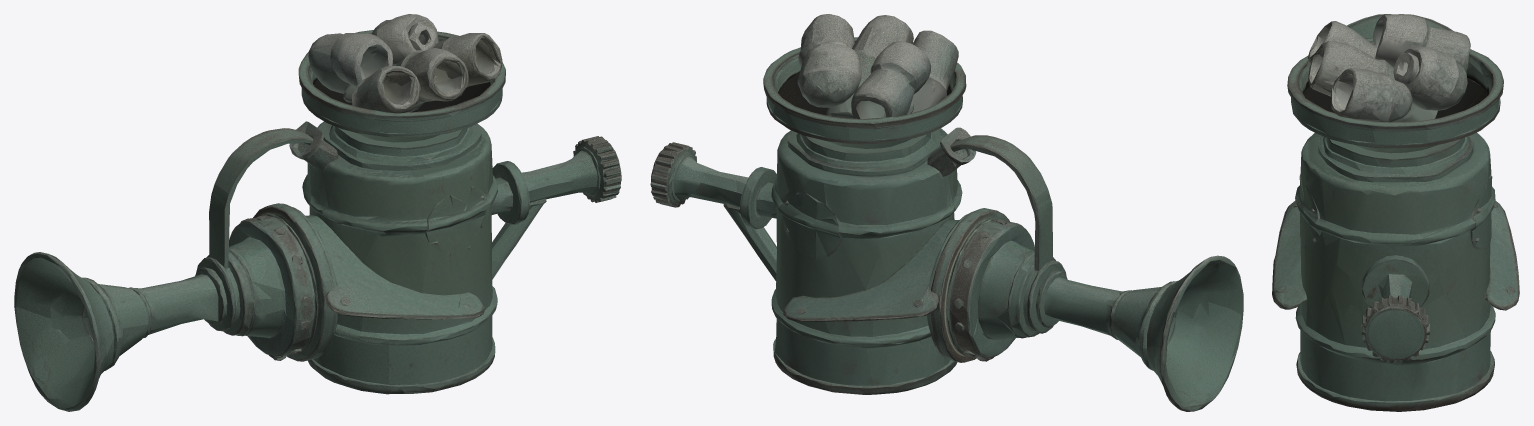
The model's file is seed_launcher.glb.
The picture shows the model from 3 angles, left to right: view 1: azimuth 30°, elevation 25°; view 2: azimuth 150°, elevation 25°; view 3: azimuth 270°, elevation 25°; orthographic projection. The views are drawn at different scales.
Visible parts, largest first — view 1: mesh_node; view 2: mesh_node; view 3: mesh_node.
Part boxes in pixels (x1=…): mesh_node: x1=14, y1=14, x2=621, y2=411; mesh_node: x1=650, y1=14, x2=1243, y2=411; mesh_node: x1=1272, y1=14, x2=1519, y2=411.
Size of the model in its own units: 1.9 by 1.07 by 0.7095.
1 material, 1 textured.
